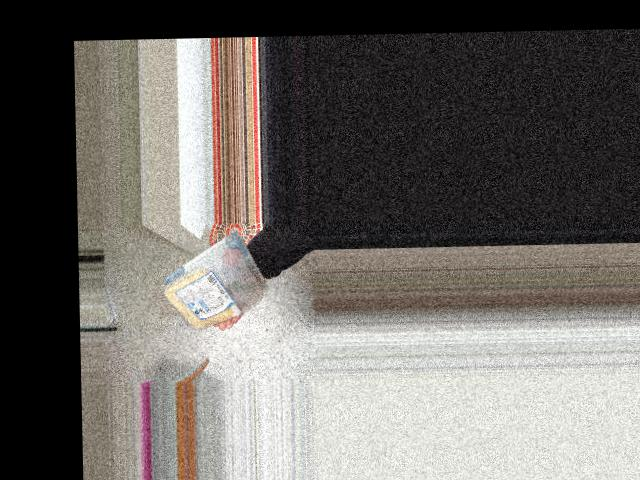cheese: (156, 238, 267, 331)
